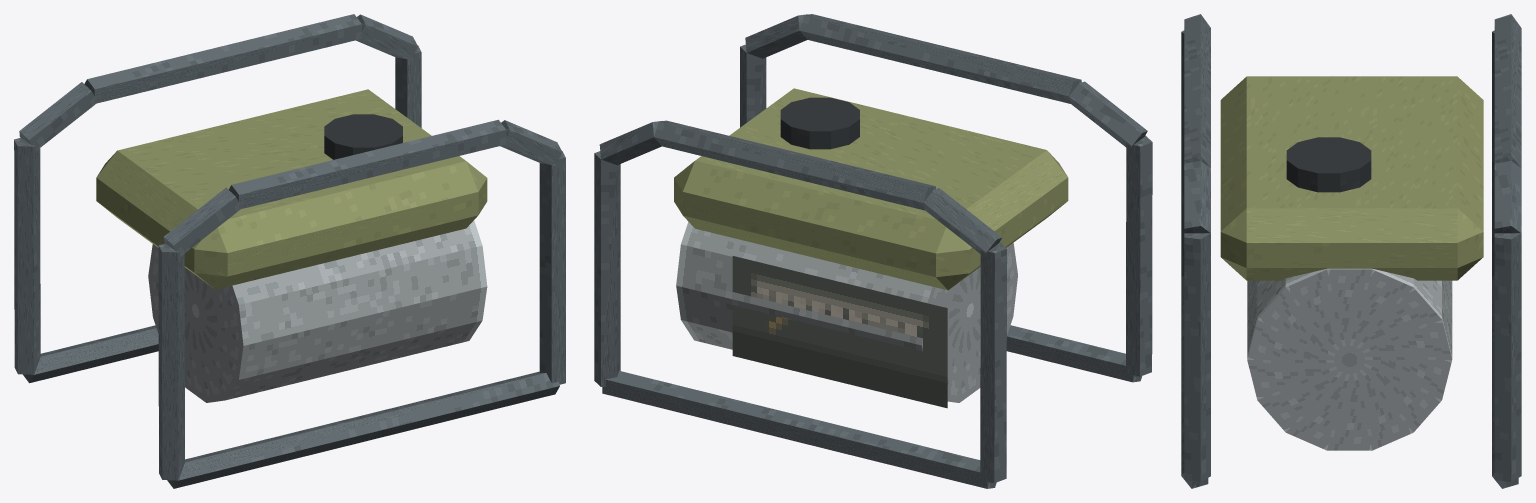
The model's file is portable_generator.glb.
3 renders of one model, left to right at view 1: azimuth 30°, elevation 25°; view 2: azimuth 150°, elevation 25°; view 3: azimuth 270°, elevation 25°, orthographic. The views are drawn at different scales.
Visible parts, largest first — view 1: block_fuel tank, block_generator output body, block_protective carry cage 2 (×2), block_protective carry cage 5 (×2), block_protective carry cage 0 (×2), block_protective carry cage 4 (×2), block_protective carry cage 1 (×2), block_protective carry cage 3 (×2), block_visible fuel cap; view 2: block_fuel tank, block_output socket panel, block_generator output body, block_protective carry cage 2 (×2), block_protective carry cage 5 (×2), block_protective carry cage 0 (×2), block_protective carry cage 4 (×2), block_protective carry cage 1 (×2), block_visible fuel cap, block_protective carry cage 3 (×2); view 3: block_fuel tank, block_generator output body, block_protective carry cage 4 (×2), block_protective carry cage 2 (×2), block_visible fuel cap, block_protective carry cage 3 (×2), block_protective carry cage 0 (×2), block_protective carry cage 5 (×2).
Boxes of the visible parts, x1,y1,x2,y2 form: block_fuel tank: (96,89,487,289); block_generator output body: (148,220,487,402); block_protective carry cage 2 (×2): (84,14,506,209); block_protective carry cage 5 (×2): (23,325,559,488); block_protective carry cage 0 (×2): (14,138,184,480); block_protective carry cage 4 (×2): (395,45,565,384); block_protective carry cage 1 (×2): (19,82,241,256); block_protective carry cage 3 (×2): (356,14,562,166); block_visible fuel cap: (324,114,402,159); block_fuel tank: (674,88,1068,290); block_output socket panel: (732,256,947,408); block_generator output body: (676,222,1017,402); block_protective carry cage 2 (×2): (654,14,1081,210); block_protective carry cage 5 (×2): (602,325,1141,488); block_protective carry cage 0 (×2): (980,135,1152,483); block_protective carry cage 4 (×2): (594,44,766,386); block_protective carry cage 1 (×2): (923,81,1147,253); block_visible fuel cap: (780,97,859,149); block_protective carry cage 3 (×2): (599,14,807,165); block_fuel tank: (1220,76,1483,280); block_generator output body: (1247,268,1452,450); block_protective carry cage 4 (×2): (1184,233,1521,481); block_protective carry cage 2 (×2): (1184,15,1521,167); block_visible fuel cap: (1286,137,1371,192); block_protective carry cage 3 (×2): (1184,160,1521,233); block_protective carry cage 0 (×2): (1181,30,1494,277); block_protective carry cage 5 (×2): (1181,276,1518,488).
Size of the model in its own units: 0.454 by 0.3063 by 0.3071.
1 material, 1 textured.
